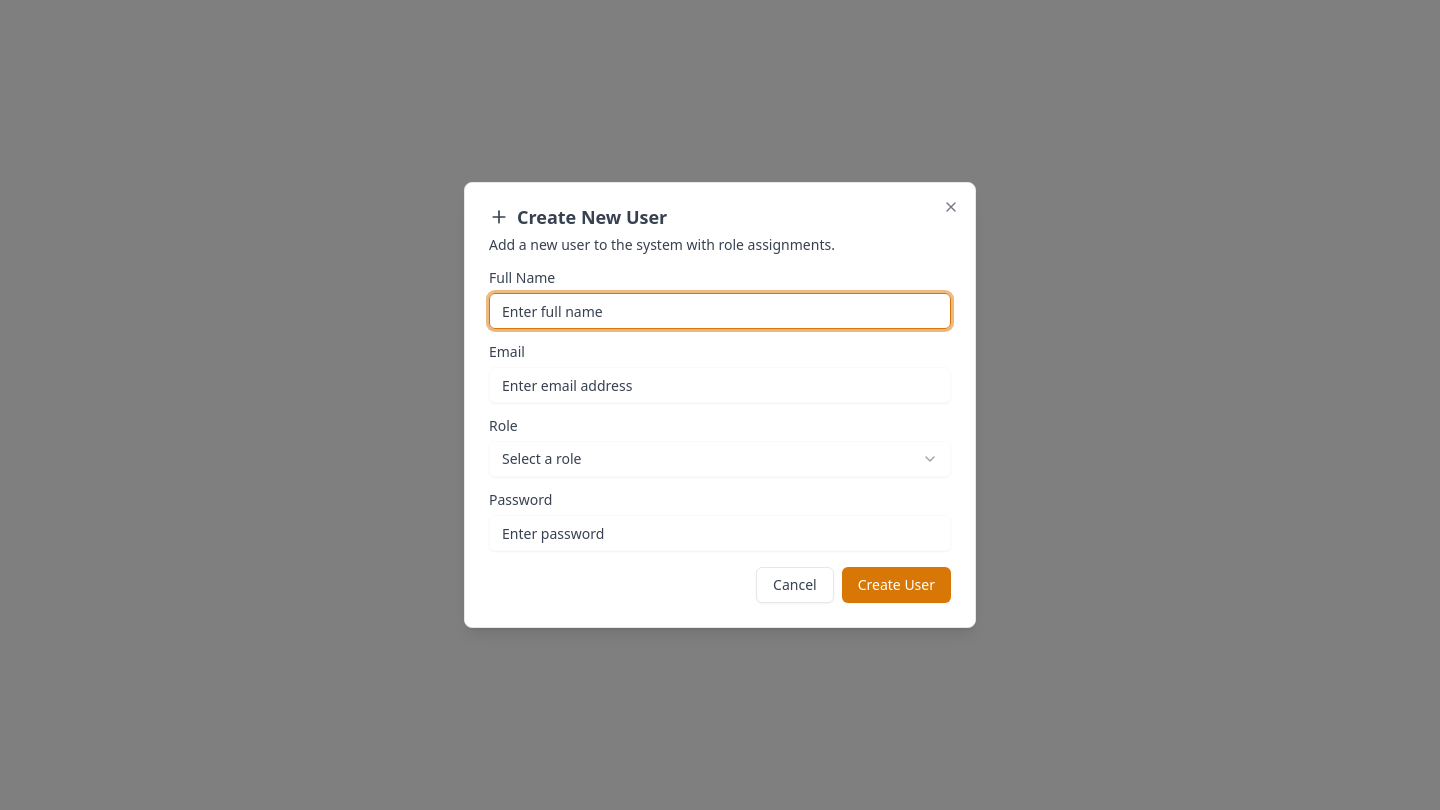
Test: CreateUserModal Component › validates password minimum length
Type "123" into the password field labelled "Password" at (720,533), box left=489, top=515, right=951, bottom=551
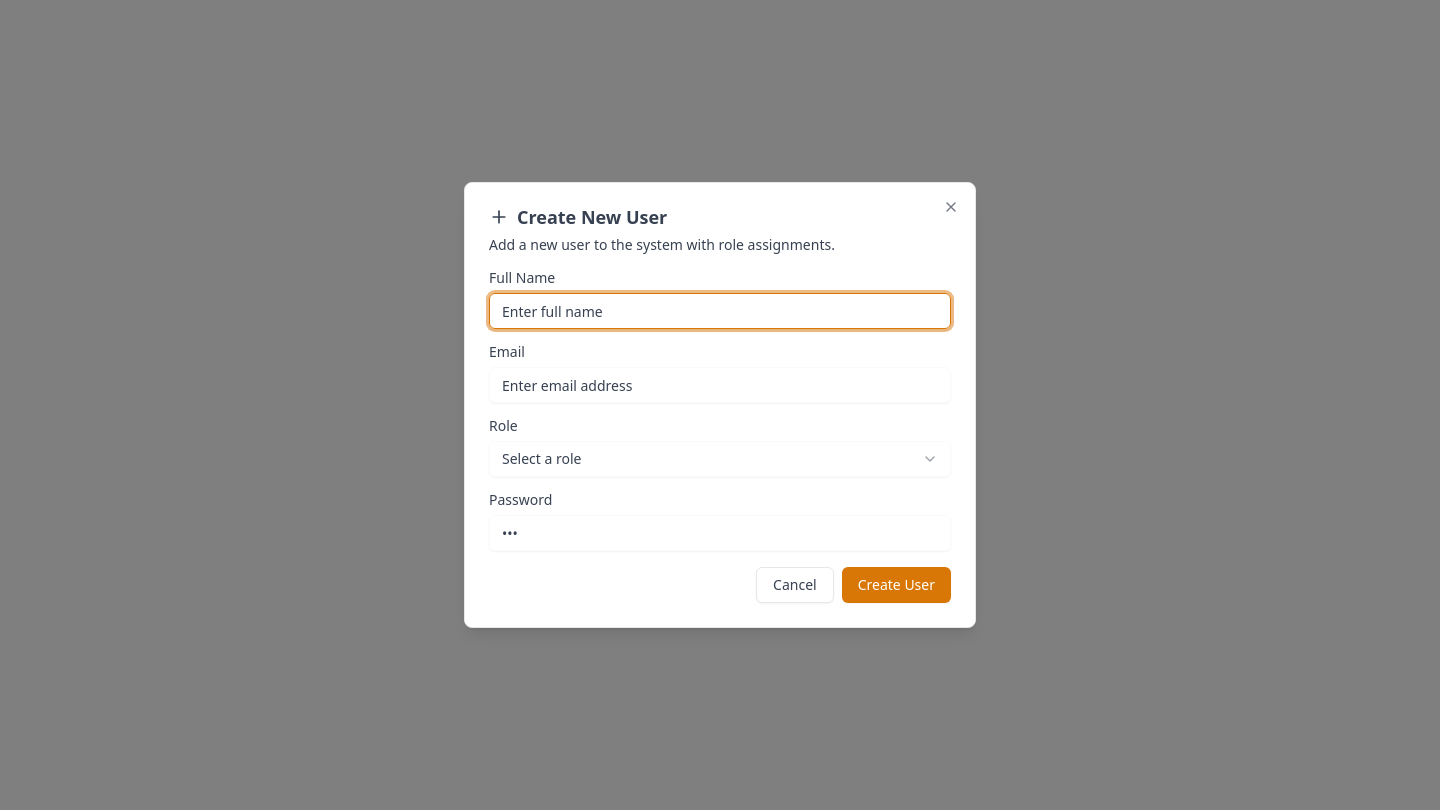
Click the button "Create User" at (896,585), box left=842, top=567, right=951, bottom=603
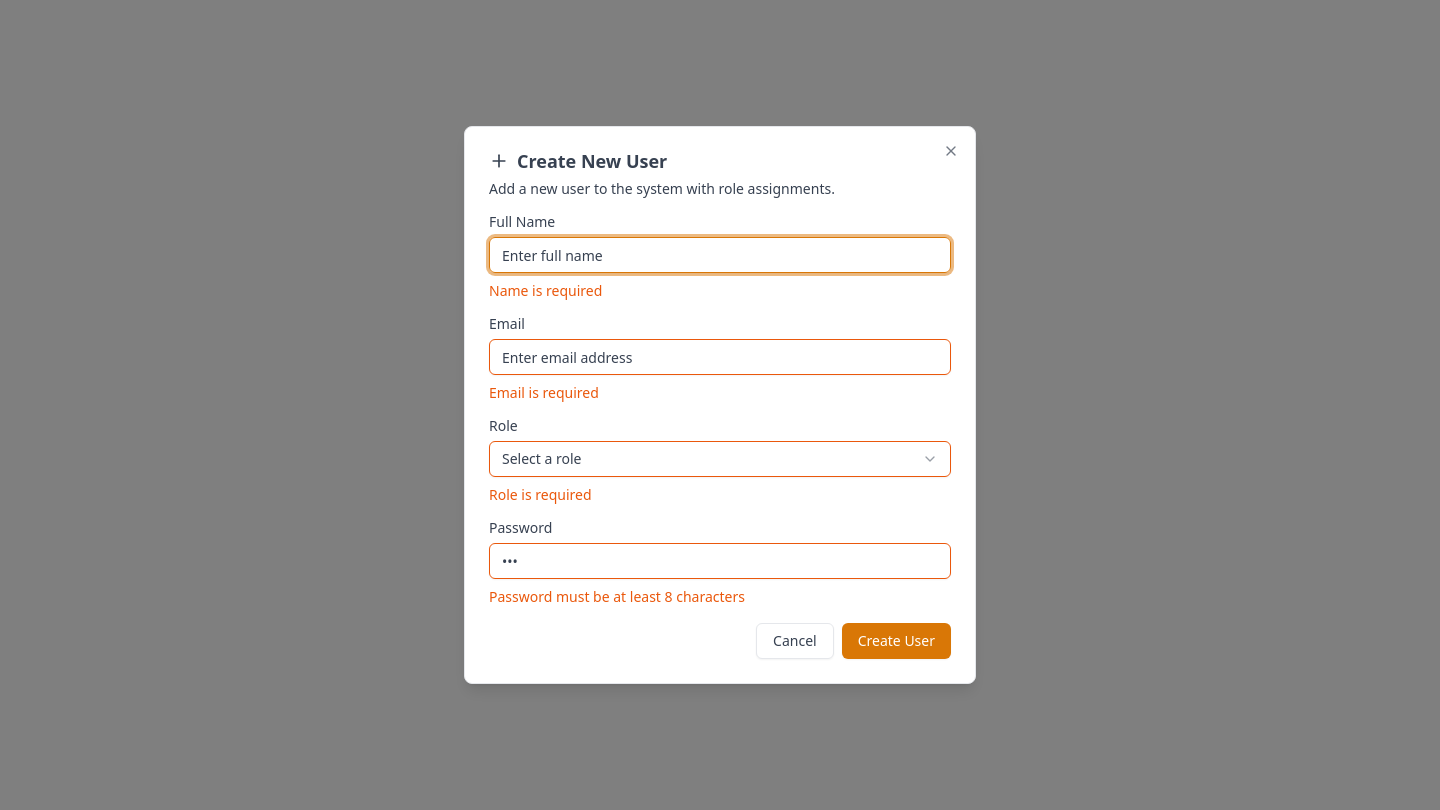
Check: the text "Password must be at least 8 characters" is shown, box left=489, top=587, right=745, bottom=606
